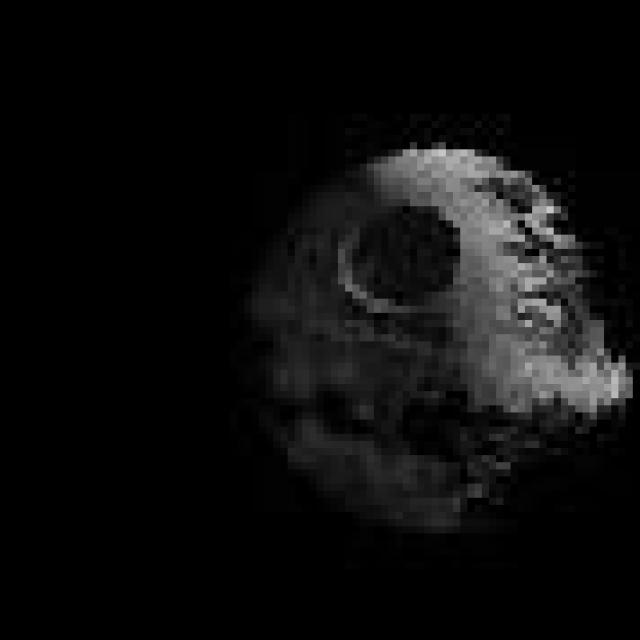Death Star: (230, 128, 633, 540)
